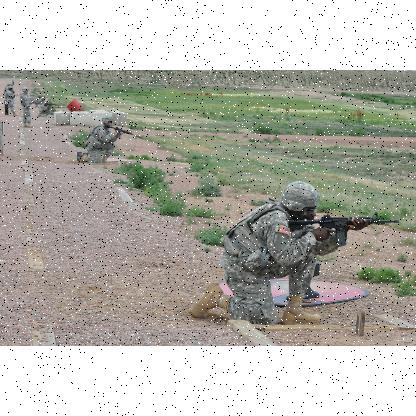gun: (287, 210, 399, 246)
